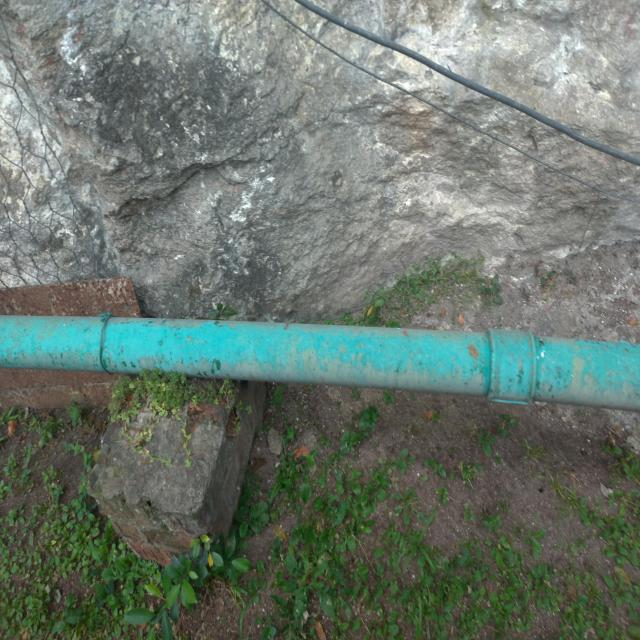gas: (3, 317, 637, 408)
